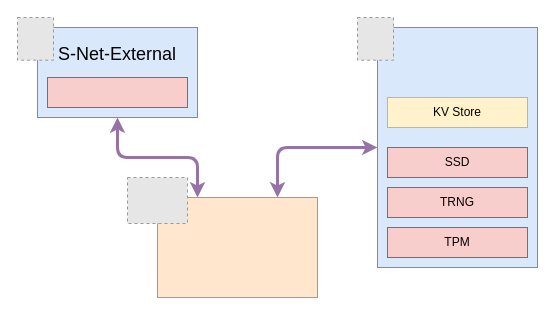
Some shapes in this 555 by 325 pixel diagram are drawn without their labels. Grey dashed boxes stand in for pictures. Here are the shapes that lost their labels. From the top down, the box of each, then its label:
(46, 76, 188, 108): Ethernet device
(376, 26, 538, 268): S-Platform
(156, 196, 318, 298): S-Keyfender
